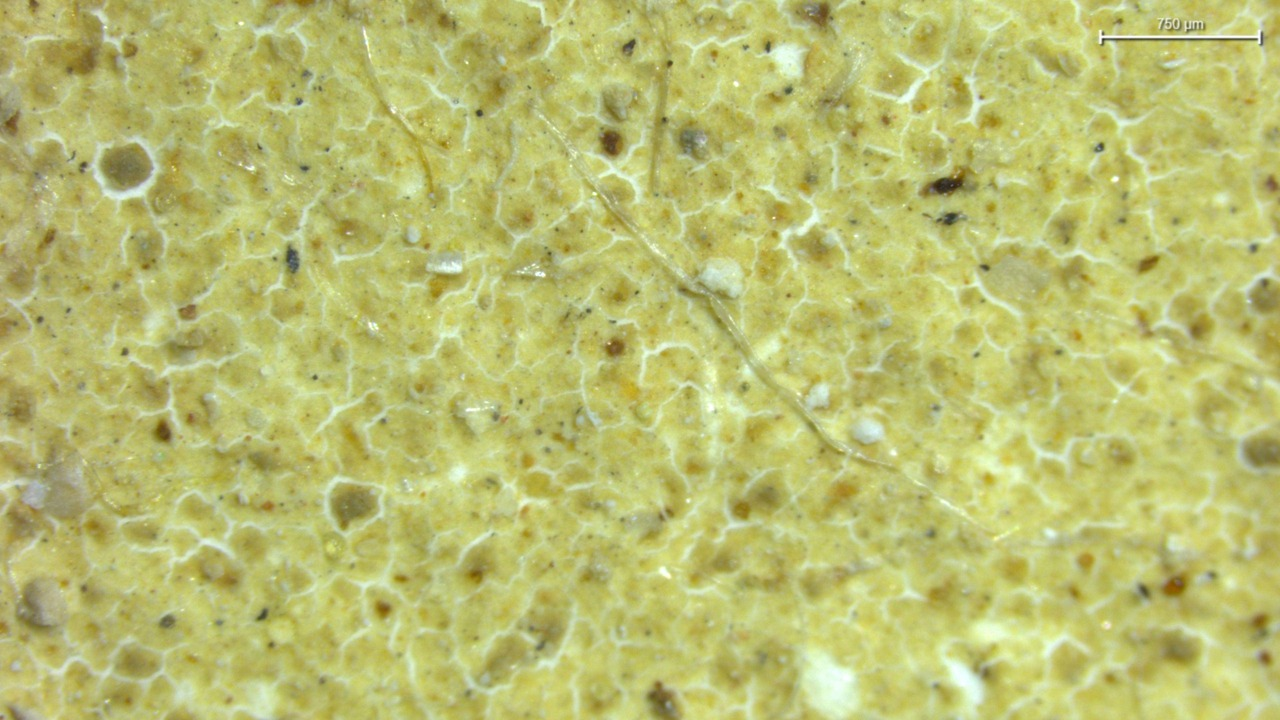microplastic_fragment: (17, 576, 68, 627), (697, 257, 744, 298), (425, 251, 464, 275)
